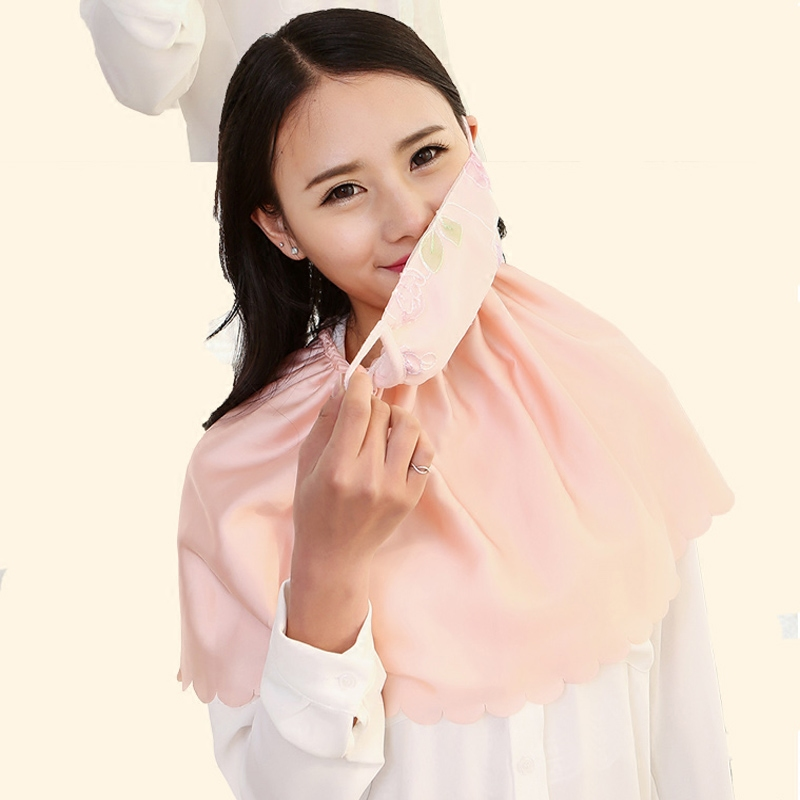face: (277, 71, 477, 313)
